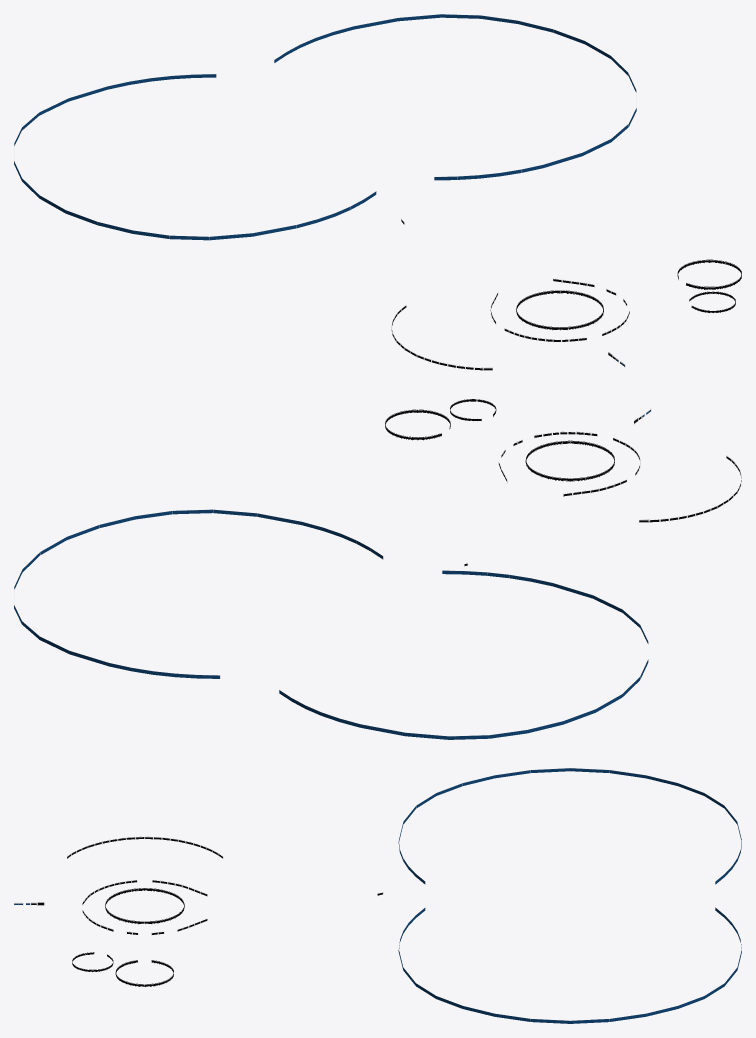
Rendered from Fences.fbx.
The picture shows the model from 3 angles, top to bottom: view 1: azimuth 30°, elevation 25°; view 2: azimuth 150°, elevation 25°; view 3: azimuth 270°, elevation 25°; orthographic projection. The views are drawn at different scales.
Parts seen in each view (by area): view 1: UniRailing1, G1a_01, G3d_01; view 2: UniRailing1, G1a_01, G3d_01; view 3: UniRailing1, G3d_01, G1a_01, G3c_01.
Part boxes in pixels (<box>): UniRailing1: <box>14,14,636,240</box>; G1a_01: <box>516,290,603,330</box>; G3d_01: <box>490,278,629,342</box>; UniRailing1: <box>14,509,648,739</box>; G1a_01: <box>525,440,614,481</box>; G3d_01: <box>498,431,640,496</box>; UniRailing1: <box>398,768,741,1023</box>; G3d_01: <box>82,879,207,935</box>; G1a_01: <box>105,888,184,924</box>; G3c_01: <box>67,836,223,858</box>.
Size of the model in its own units: 300 by 8.04 by 365.
